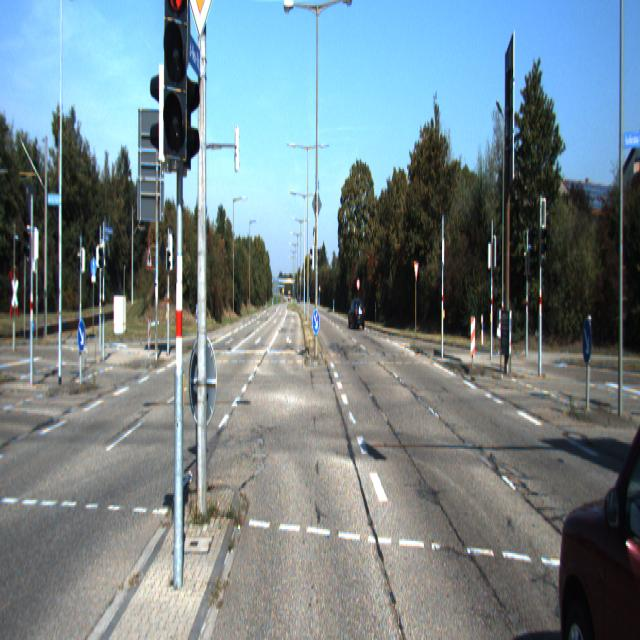Car: (551, 349, 639, 638), (348, 296, 366, 332)
